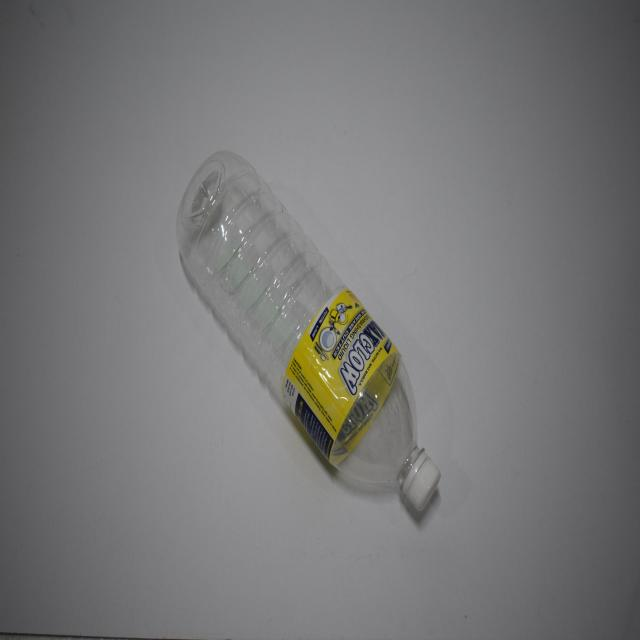bottle: (166, 136, 452, 551)
